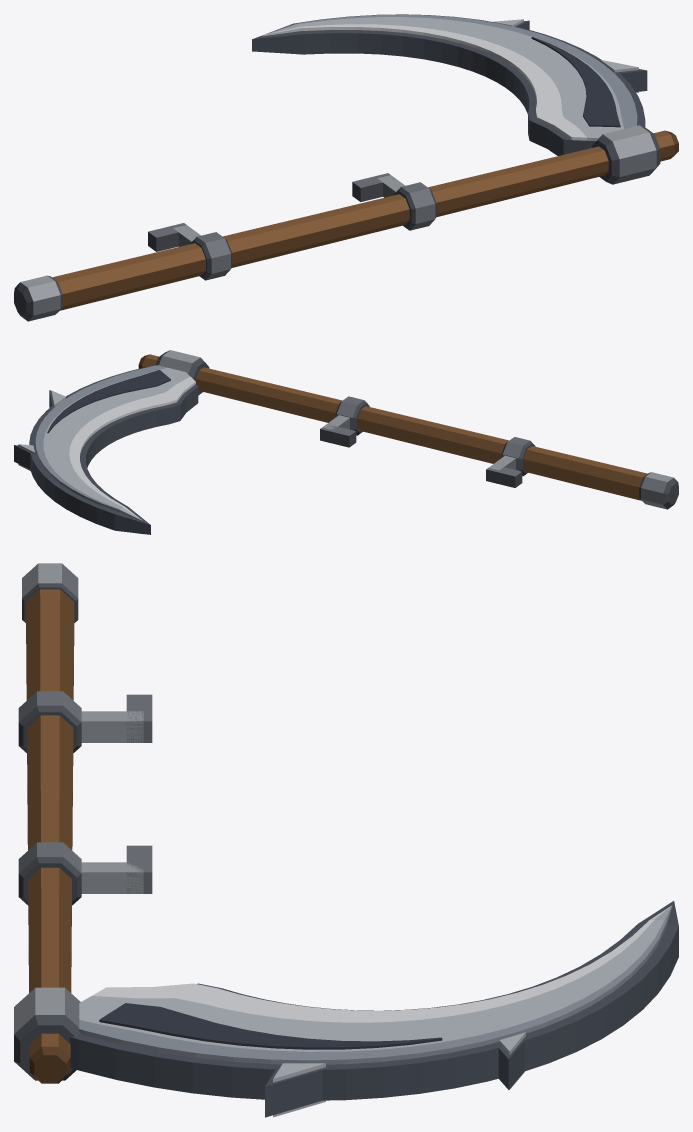
Rendered from LongScythe.fbx.
3 renders of one model, top to bottom at view 1: azimuth 30°, elevation 25°; view 2: azimuth 150°, elevation 25°; view 3: azimuth 270°, elevation 25°, orthographic. The views are drawn at different scales.
Visible parts, largest first — view 1: LongScytheBlade, LongScytheHandle, LongScytheFittings; view 2: LongScytheBlade, LongScytheHandle, LongScytheFittings; view 3: LongScytheBlade, LongScytheHandle, LongScytheFittings.
Part boxes in pixels (<box>): LongScytheBlade: <box>252,14,660,184</box>; LongScytheHandle: <box>52,130,678,310</box>; LongScytheFittings: <box>14,173,436,321</box>; LongScytheBlade: <box>14,350,209,534</box>; LongScytheHandle: <box>138,354,647,500</box>; LongScytheFittings: <box>320,396,678,509</box>; LongScytheBlade: <box>14,901,678,1117</box>; LongScytheHandle: <box>26,589,74,1083</box>; LongScytheFittings: <box>18,563,152,905</box>.
Bounding box in the file's own units: 718 × 42.5 × 391.
